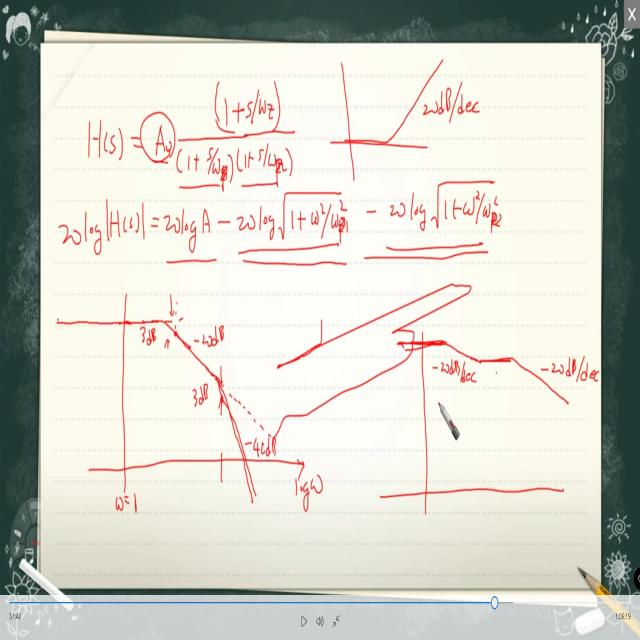panseo: (49, 46, 600, 536)
